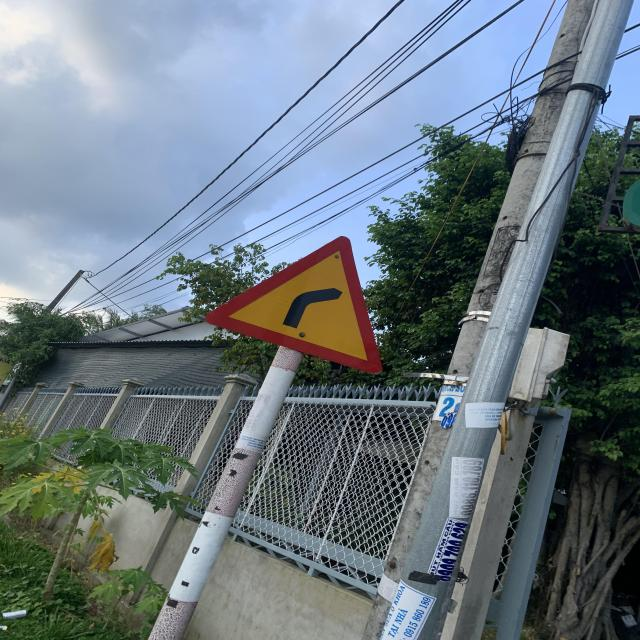Duong_Nguoi_Di_Bo_Cat_Ngang: (202, 234, 384, 374)
